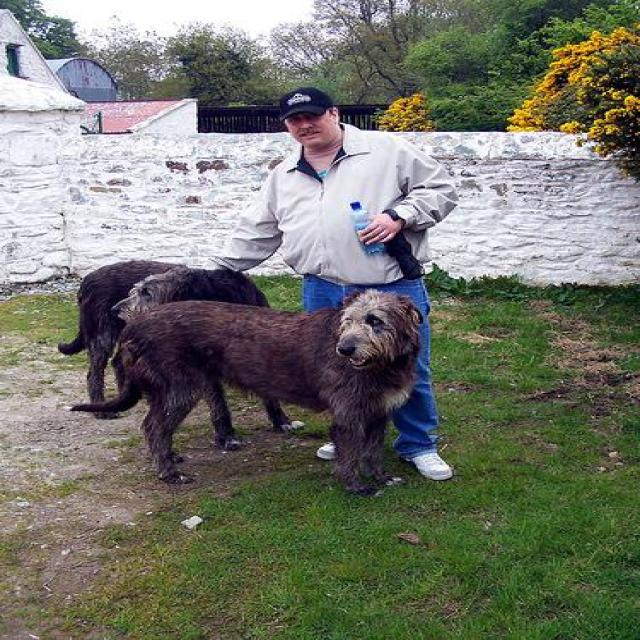irish_wolfhound: (70, 286, 471, 497), (60, 250, 304, 456)
